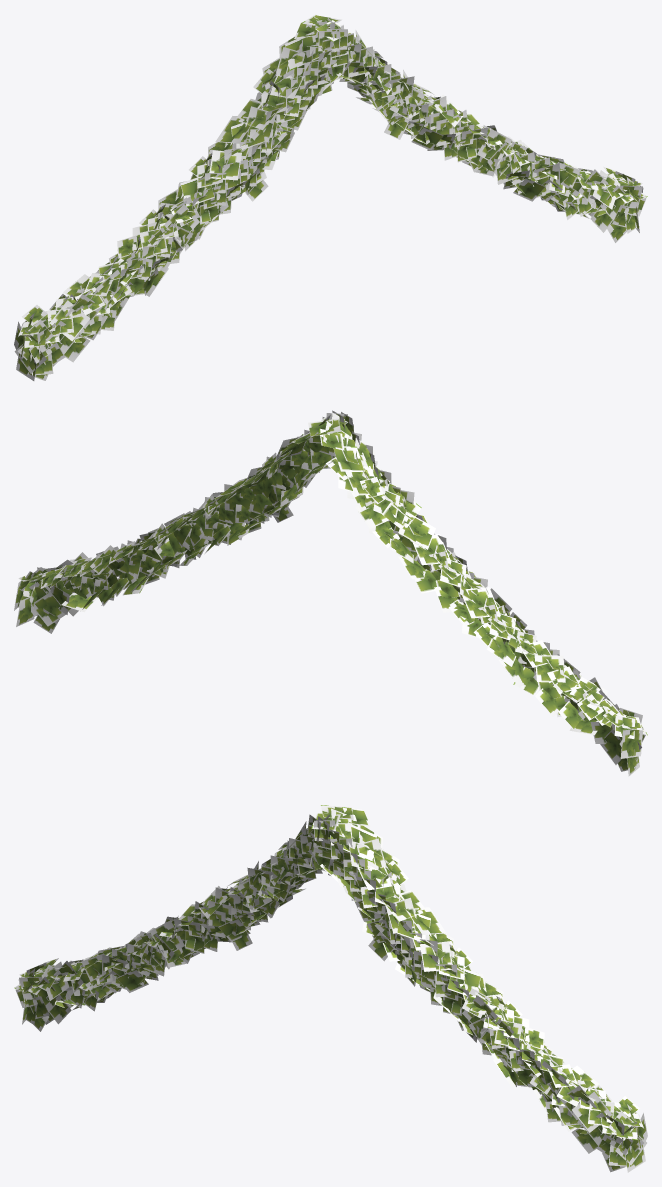
The model's file is Ivy_03.glb.
3 renders of one model, top to bottom at view 1: azimuth 30°, elevation 25°; view 2: azimuth 150°, elevation 25°; view 3: azimuth 330°, elevation 25°, orthographic.
Visible parts, largest first — view 1: Ivy_03_LOD0; view 2: Ivy_03_LOD0; view 3: Ivy_03_LOD0.
Boxes of the visible parts, x1,y1,x2,y2 form: Ivy_03_LOD0: (14, 14, 647, 380); Ivy_03_LOD0: (14, 410, 647, 776); Ivy_03_LOD0: (14, 805, 647, 1172).
Size of what is drawn, in the model's own units: 11.7 by 5.23 by 1.28.
Materials: 1 (1 with a texture image).
